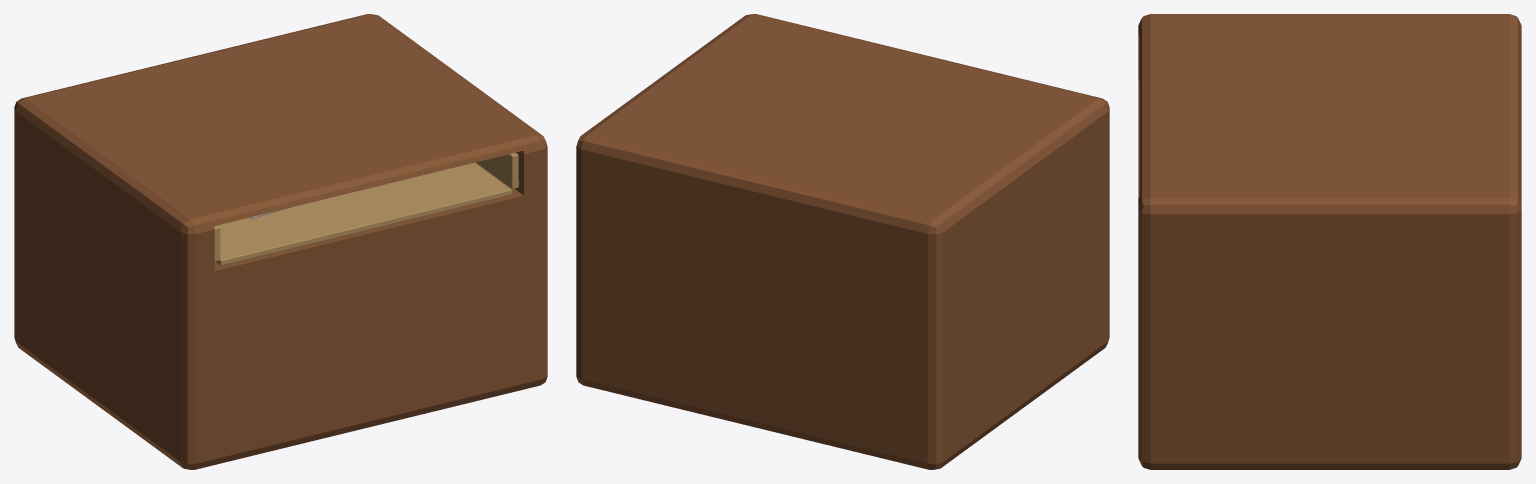
The model's file is nightstand.glb.
The picture shows the model from 3 angles, left to right: view 1: azimuth 30°, elevation 25°; view 2: azimuth 150°, elevation 25°; view 3: azimuth 270°, elevation 25°; orthographic projection. The views are drawn at different scales.
Parts seen in each view (by area): view 1: Primary nightstand walnut case.001 export, Upper drawer maple bottom export, Upper drawer maple side.001 export; view 2: Primary nightstand walnut case.001 export; view 3: Primary nightstand walnut case.001 export.
Part boxes in pixels (<box>): Primary nightstand walnut case.001 export: <box>14,14,547,469</box>; Upper drawer maple bottom export: <box>215,162,511,265</box>; Upper drawer maple side.001 export: <box>476,152,518,188</box>; Primary nightstand walnut case.001 export: <box>576,14,1109,469</box>; Primary nightstand walnut case.001 export: <box>1138,14,1521,469</box>.
Size of the model in its own units: 0.55 by 0.36 by 0.46.
